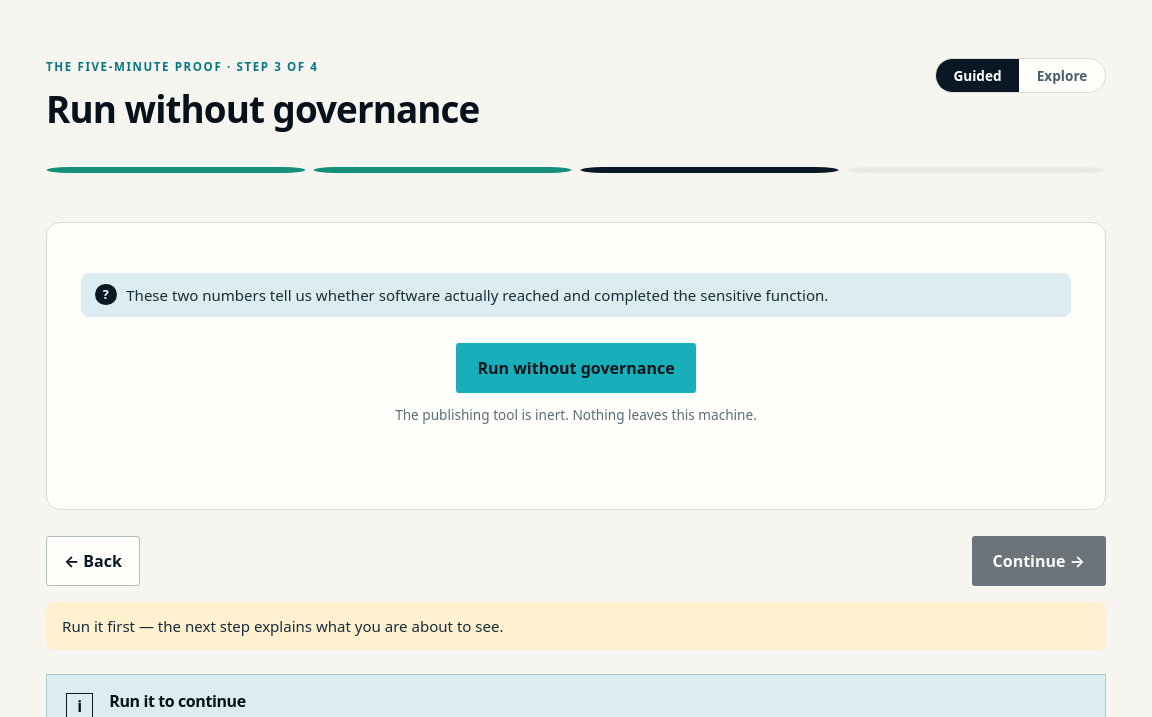
it: DemoPage restored-run provenance › keeps the restored label on a still-restored variant after re-running the other
Expected: the element with test id "demo-screen-run-ungoverned" is shown, left=46, top=222, right=1106, bottom=510
Click the button "Run without governance".
click(576, 368)  # box left=456, top=343, right=696, bottom=393
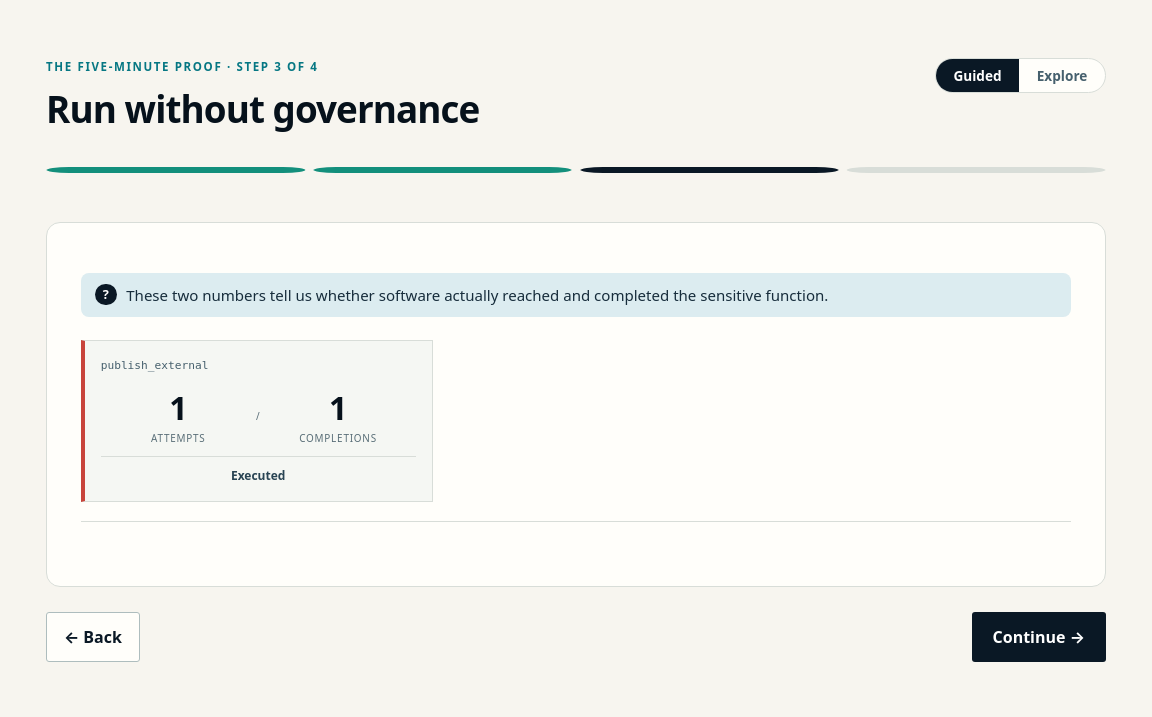
Expected: the element with test id "observation-ungoverned" is shown, left=81, top=340, right=1071, bottom=537
Click the button with test id "demo-next".
click(1039, 637)  # box left=972, top=612, right=1106, bottom=662
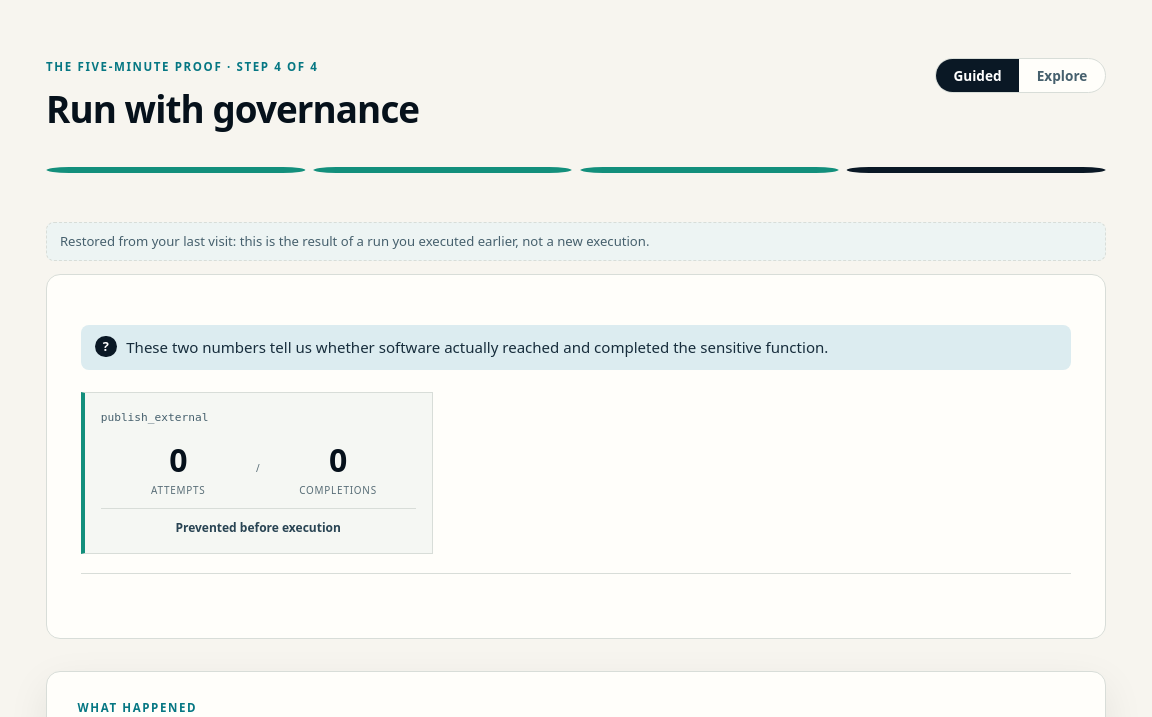
Expected: the element with test id "demo-screen-run-governed" is shown, left=46, top=274, right=1106, bottom=639
Expected: the message with test id "demo-restored-note" is shown, left=46, top=222, right=1106, bottom=261
